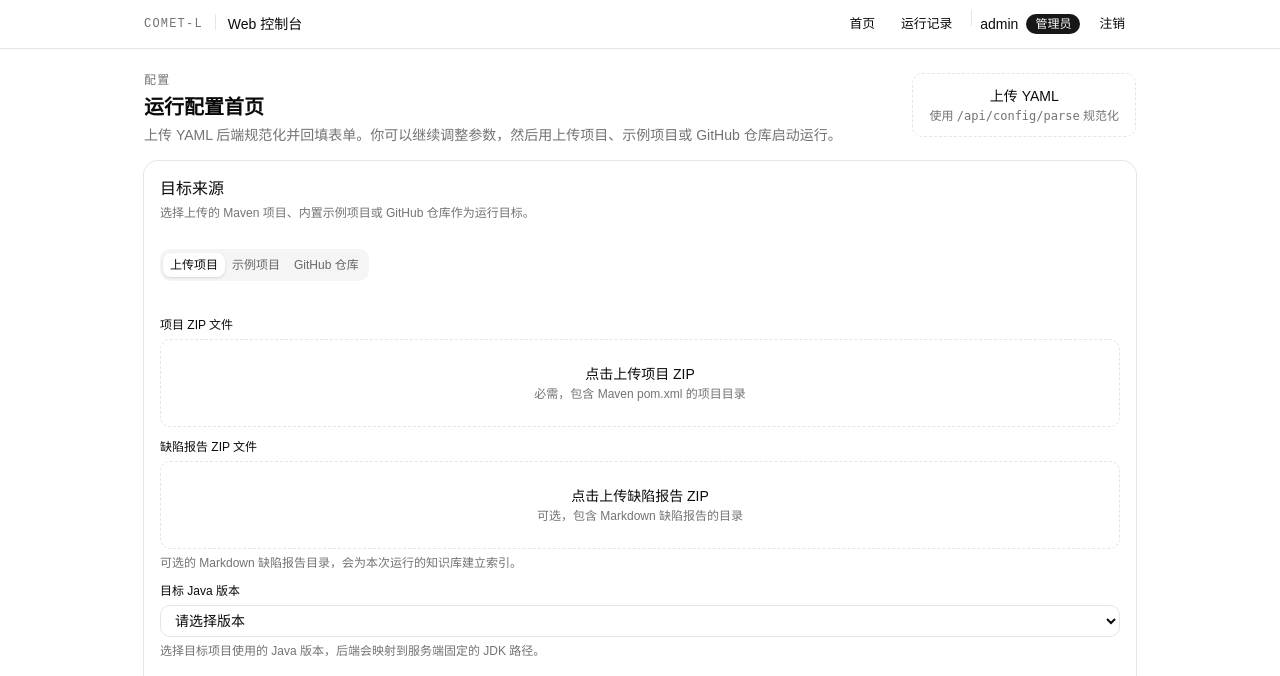
HomePage GitHub auth flow › shows GitHub connect button when not connected
Expected: the file field named "上传项目 ZIP" is shown, x1=160 y1=318 x2=233 y2=332
Click the tab "GitHub 仓库".
click(326, 265)  # box x1=287 y1=253 x2=366 y2=277
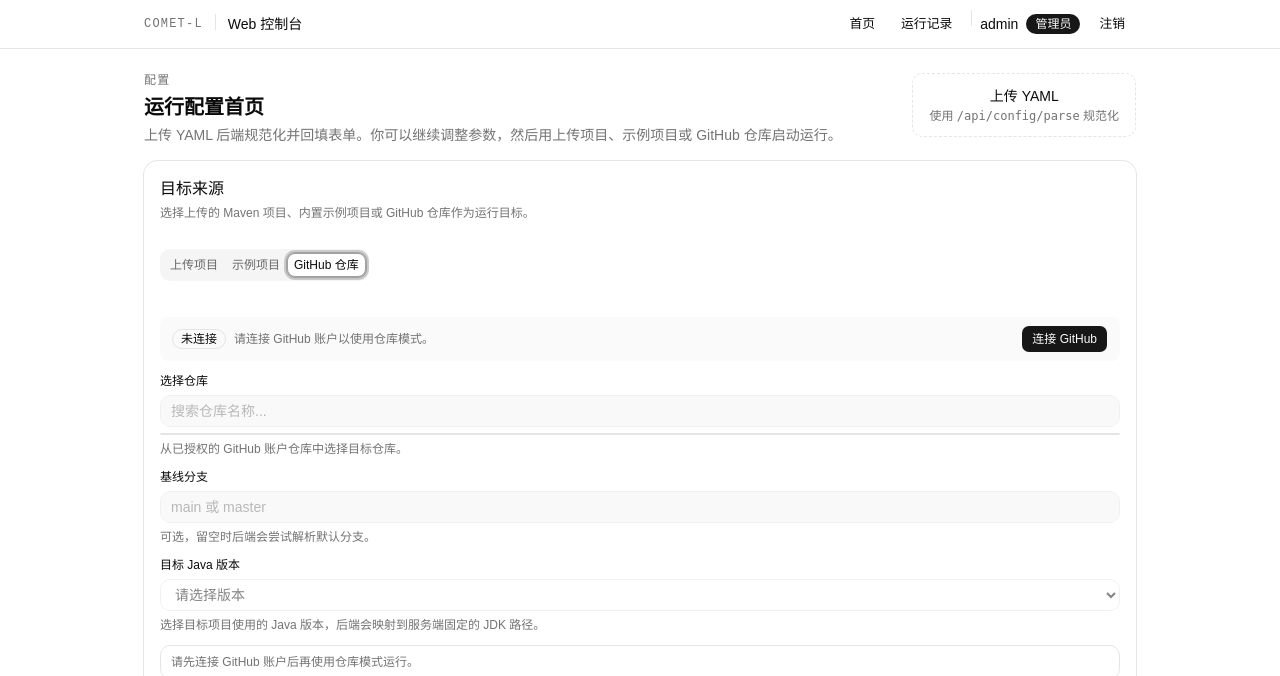
Expected: the button with test id "github-connect-button" is shown, x1=1021 y1=325 x2=1108 y2=353
Expected: the icon "未连接" is shown, x1=172 y1=329 x2=226 y2=349
Expected: the text "请连接 GitHub 账户以使用仓库模式。" is shown, x1=234 y1=331 x2=434 y2=347
